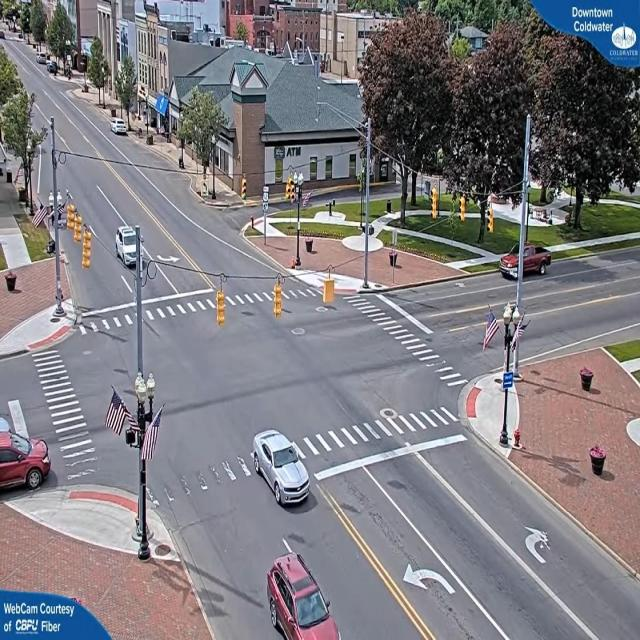car: (266, 554, 344, 640), (253, 430, 312, 506), (0, 411, 50, 498), (114, 226, 142, 268), (112, 121, 130, 138)
